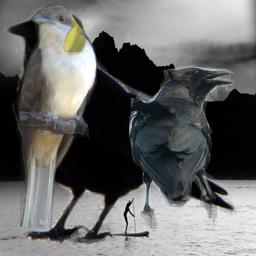Crow: (0, 3, 242, 246), (129, 62, 234, 229)
Cuckoo: (15, 4, 97, 228)
